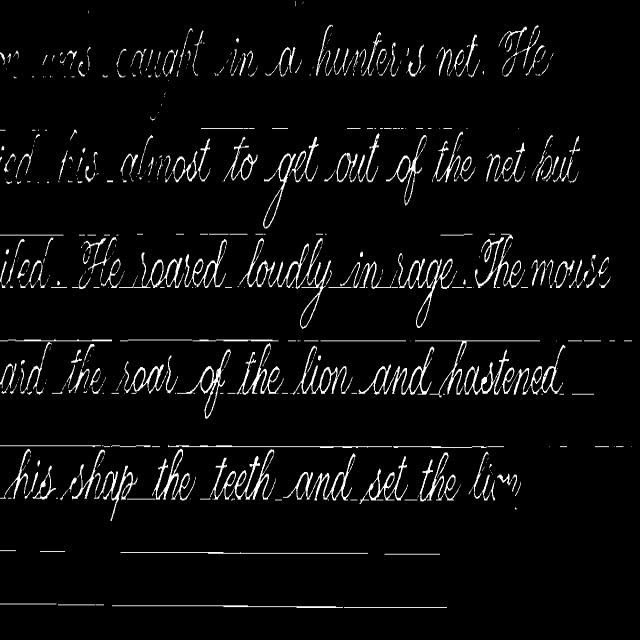noise: (0, 602, 446, 611), (168, 444, 506, 450), (120, 550, 372, 558), (0, 338, 279, 342), (340, 126, 454, 133), (0, 444, 160, 447), (136, 230, 184, 238), (416, 340, 540, 343), (201, 126, 258, 132), (380, 552, 440, 557), (317, 340, 407, 343), (568, 340, 616, 344), (590, 444, 624, 449), (260, 127, 292, 132), (39, 549, 67, 554), (0, 231, 24, 236), (0, 547, 16, 553), (440, 233, 472, 236)
not-noise: (0, 234, 609, 327), (0, 24, 554, 121), (51, 351, 564, 402), (0, 463, 521, 504), (227, 340, 565, 396), (115, 33, 486, 78), (260, 132, 476, 207), (0, 135, 260, 185), (484, 136, 580, 183), (0, 342, 52, 394), (498, 33, 554, 77), (40, 47, 110, 76), (198, 349, 231, 408), (60, 342, 96, 393), (0, 360, 47, 394), (160, 449, 189, 500), (4, 449, 30, 498), (472, 451, 495, 500), (251, 451, 274, 499), (83, 450, 104, 498), (428, 453, 448, 500), (300, 293, 320, 328), (341, 453, 355, 492), (0, 50, 20, 76), (263, 489, 266, 499)
